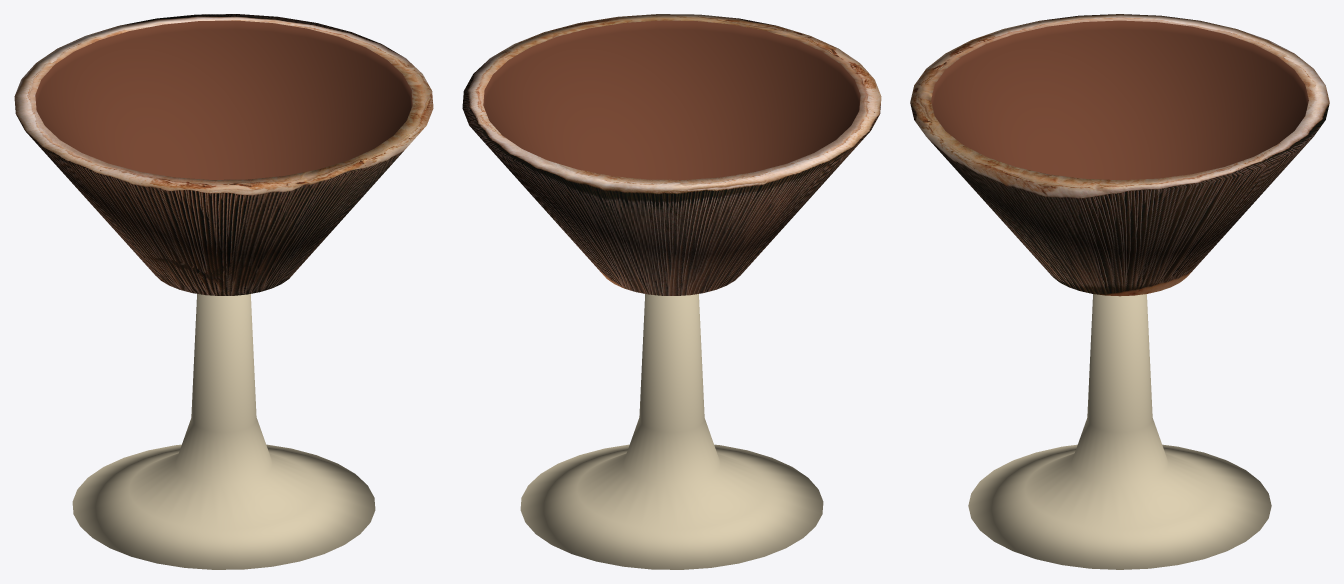
The model's file is champignon007.fbx.
3 views of the same model, side by side, from view 1: azimuth 30°, elevation 25°; view 2: azimuth 150°, elevation 25°; view 3: azimuth 270°, elevation 25° (orthographic).
Visible parts, largest first — view 1: Cube; view 2: Cube; view 3: Cube.
Part boxes in pixels (bbox=[...]): Cube: bbox=[14, 14, 433, 569]; Cube: bbox=[462, 14, 881, 569]; Cube: bbox=[910, 14, 1329, 569].
Size of the model in its own units: 164 by 175 by 164.
